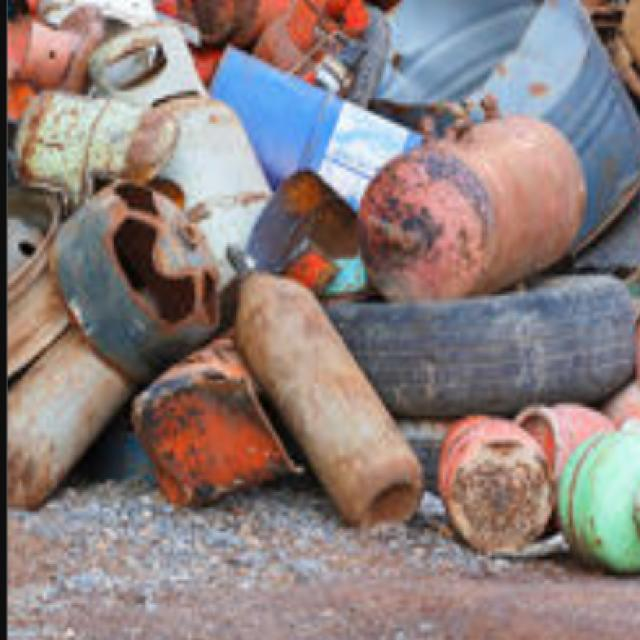cylinder: (226, 243, 425, 527), (85, 22, 272, 284)
